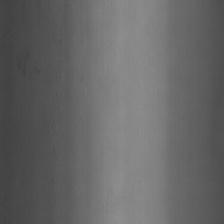inclusion: (47, 104, 61, 214), (55, 4, 71, 96), (13, 43, 43, 88)
